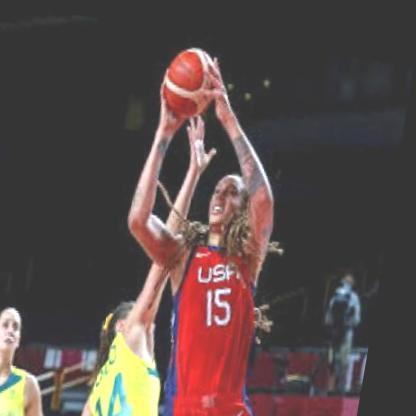basketball: (161, 37, 222, 113)
